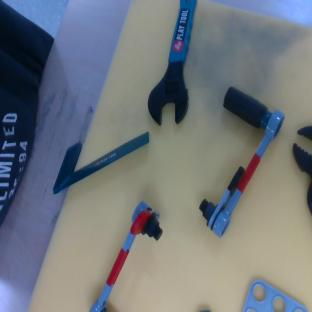non_pass: (167, 86, 287, 240)
pass: (74, 200, 171, 312)
